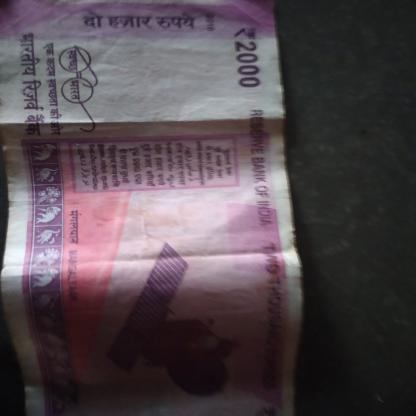New2000Back: (2, 0, 298, 416)
